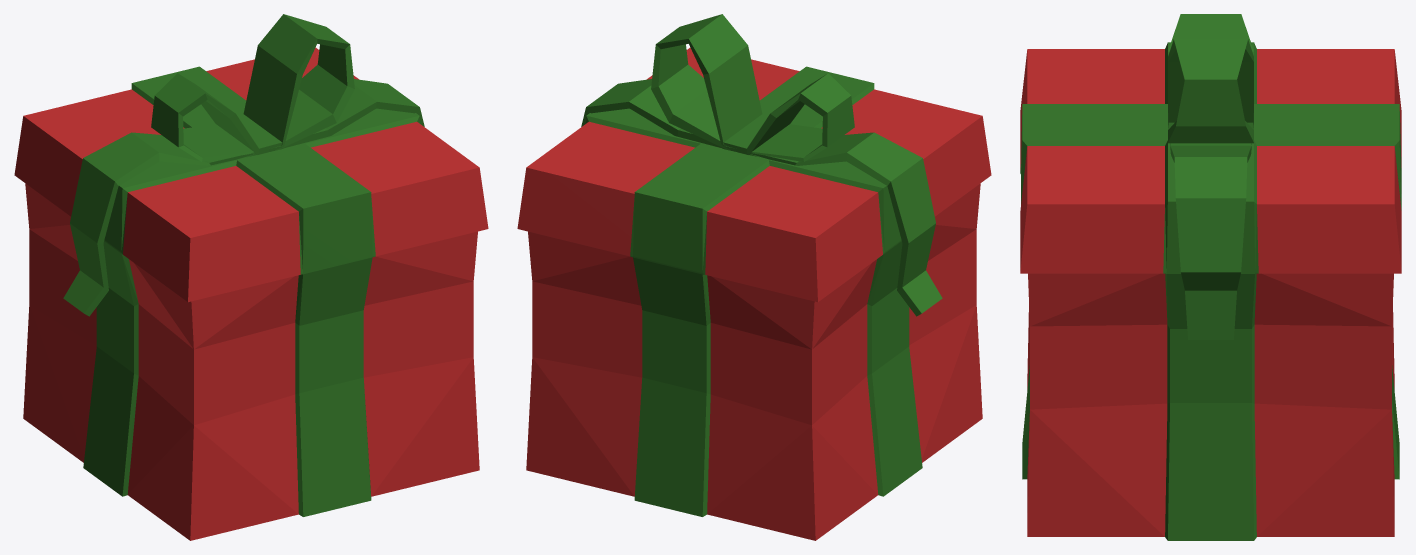
Rendered from gift.glb.
The picture shows the model from 3 angles, left to right: view 1: azimuth 30°, elevation 25°; view 2: azimuth 150°, elevation 25°; view 3: azimuth 270°, elevation 25°; orthographic projection. The views are drawn at different scales.
Parts seen in each view (by area): view 1: Gift 1; view 2: Gift 1; view 3: Gift 1.
Boxes of the visible parts, box(x1,y1,x2,y2) form: Gift 1: box(14, 14, 488, 540); Gift 1: box(517, 14, 991, 540); Gift 1: box(1020, 14, 1401, 540).
Size of the model in its own units: 0.2463 by 0.2777 by 0.2142.
